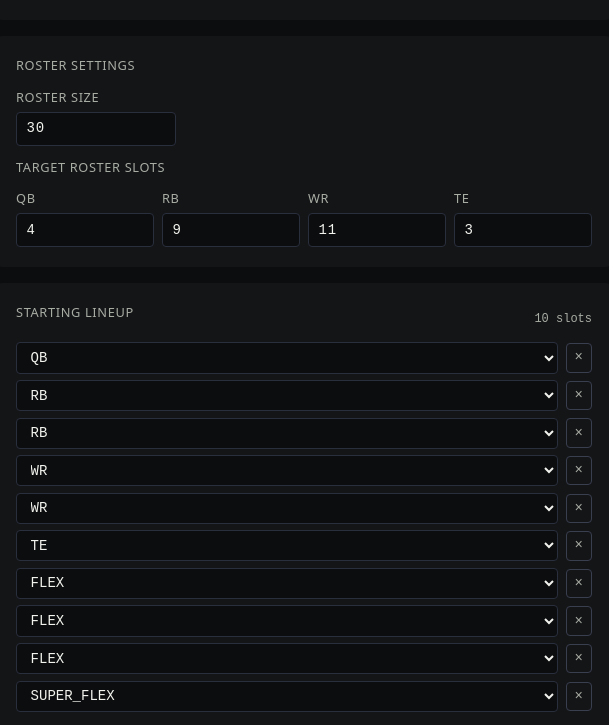
Test: NewDraftPage — roster settings and lineup › removes the correct slot when × is clicked
(page scrolled)
// Remove slot 0 (QB)
Click the button with test id "remove-lineup-slot-0": [579, 358] box x1=566 y1=343 x2=592 y2=373
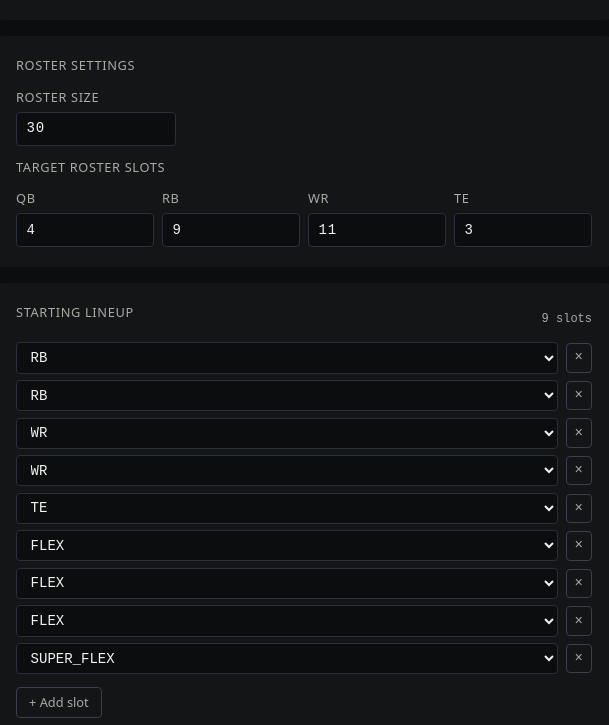
Expected: the dropdown with test id "lineup-slot-0" shows "RB", x1=16 y1=342 x2=558 y2=374
